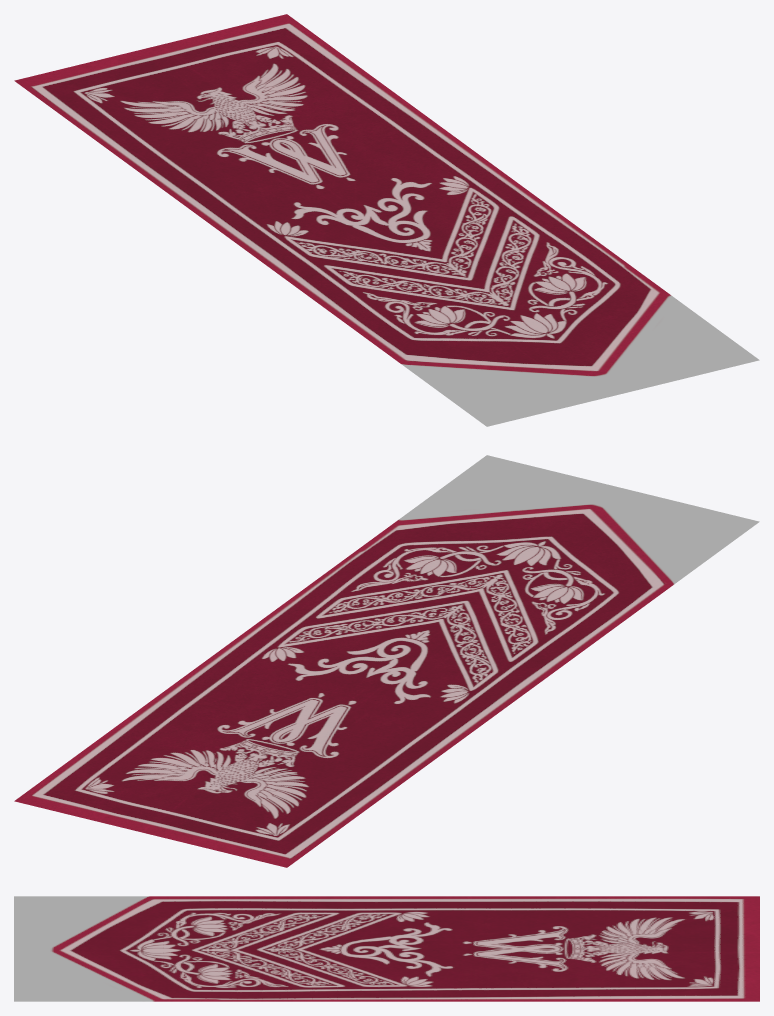
File: ClothModel.gltf
3 renders of one model, top to bottom at view 1: azimuth 30°, elevation 25°; view 2: azimuth 150°, elevation 25°; view 3: azimuth 270°, elevation 25°, orthographic. The views are drawn at different scales.
Visible parts, largest first — view 1: ClothModel; view 2: ClothModel; view 3: ClothModel.
Boxes of the visible parts, x1=… form: ClothModel: x1=14, y1=14, x2=759, y2=426; ClothModel: x1=14, y1=455, x2=759, y2=867; ClothModel: x1=14, y1=896, x2=759, y2=1001.
Size of the model in its own units: 1.2 by 7.99e-16 by 3.6.
Materials: 1 (1 with a texture image).
